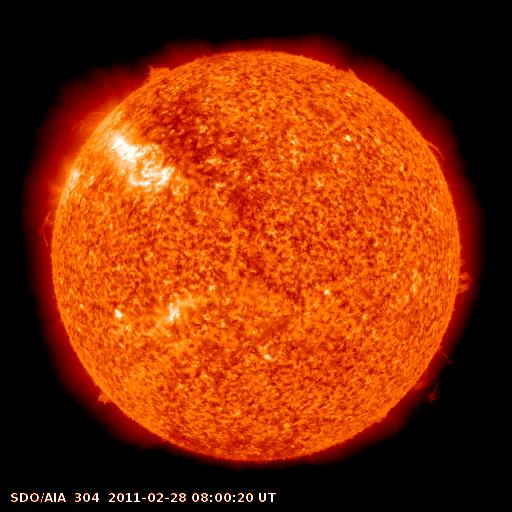prominence: (398, 339, 464, 410), (25, 203, 70, 262), (406, 121, 454, 175), (446, 239, 481, 309), (132, 52, 183, 98), (80, 375, 128, 422)
